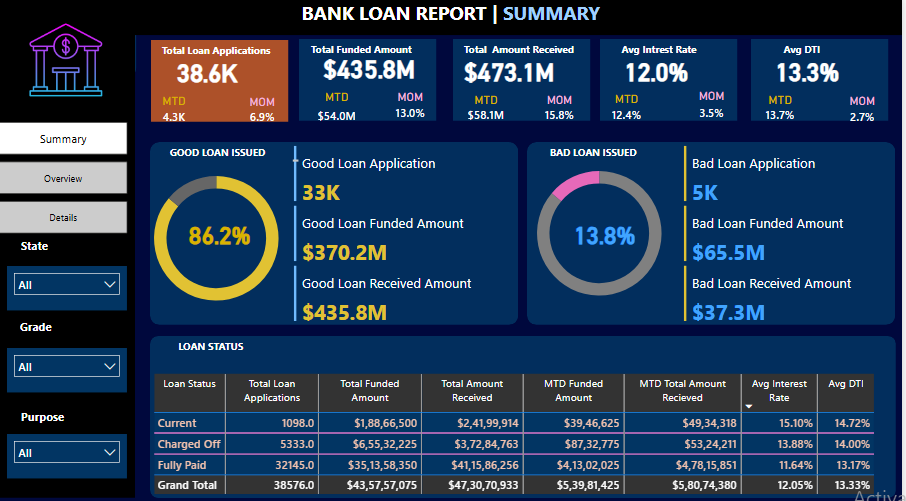

Layout of this report page (visuals, bound fields, positions):
{"tool":"powerbi","page":{"name":"Summary","canvas":[1280,720],"ordinal":0},"visuals":[{"type":"shape","box":[425.8,60.9,194.9,116.2],"z":0,"group":"g5"},{"type":"shape","box":[642.1,60.9,194.9,116.2],"z":0,"group":"g6"},{"type":"shape","box":[851.3,60.9,194.9,116.2],"z":0,"group":"g2"},{"type":"shape","box":[1065.8,60.9,194.9,116.2],"z":0,"group":"g1"},{"type":"shape","box":[214.9,62.7,194.9,116.2],"z":0,"group":"g4"},{"type":"shape","box":[214.5,207.4,522,259.2],"z":0},{"type":"card","fields":{"Values":["Date Table.Total Funded Amount"]},"box":[435,67.2,178.8,66.1],"z":1000,"group":"g5"},{"type":"card","fields":{"Values":["Date Table.Total Amount Received"]},"box":[632.8,71.5,178.8,66.1],"z":1000,"group":"g6"},{"type":"card","fields":{"Values":["Date Table.Avg Interest Rate"]},"box":[842,71.5,178.8,66.1],"z":1000,"group":"g2"},{"type":"card","fields":{"Values":["Date Table.Avg DTI"]},"box":[1056.5,71.5,178.8,66.1],"z":1000,"group":"g1"},{"type":"card","fields":{"Values":["Date Table.Total Loan Applications"]},"box":[205.6,73.3,178.8,66.1],"z":1000,"group":"g4"},{"type":"shape","box":[0.3,0.1,194.9,116.2],"z":2000},{"type":"textbox","box":[425.5,60.8,195.6,35.4],"z":2000,"group":"g5"},{"type":"textbox","box":[641.8,60.8,195.6,35.4],"z":2000,"group":"g6"},{"type":"textbox","box":[851,60.8,195.6,35.4],"z":2000,"group":"g2"},{"type":"textbox","box":[1065.5,60.8,195.6,35.4],"z":2000,"group":"g1"},{"type":"textbox","box":[214.6,62.6,195.6,35.4],"z":2000,"group":"g4"},{"type":"shape","box":[0,55.3,192.8,656.2],"z":2500},{"type":"card","title":"MOM","fields":{"Values":["Date Table.MOM total avg intreset amount"]},"box":[972,132,75.1,53.6],"z":3000,"group":"g2"},{"type":"card","title":"MOM","fields":{"Values":["Date Table.MOM total funded amount"]},"box":[547.7,133.3,71.5,48.3],"z":3000,"group":"g5"},{"type":"card","title":"MOM","fields":{"Values":["Date Table.MOM total Amount Recieved"]},"box":[762.8,137.2,60.8,44.7],"z":3000,"group":"g6"},{"type":"card","title":"MOM","fields":{"Values":["Date Table.MOM AVG DTI"]},"box":[1187.8,138.1,71.5,48.3],"z":3000,"group":"g1"},{"type":"card","title":"MOM","fields":{"Values":["Date Table.MOM Loan Application"]},"box":[336.8,140.2,71.5,46.5],"z":3000,"group":"g4"},{"type":"textbox","box":[225.3,207.4,184.1,41.1],"z":3000},{"type":"card","title":"MTD","fields":{"Values":["Date Table.MTD Funded Amount"]},"box":[436.8,133.3,84,57.2],"z":4000,"group":"g5"},{"type":"card","title":"MTD","fields":{"Values":["Date Table.MTD Avg Intrest rate"]},"box":[861.2,135.6,55.4,48.3],"z":4000,"group":"g2"},{"type":"card","title":"MTD","fields":{"Values":["Date Table.MTD Avg DTI"]},"box":[1076.4,137,62.6,46.5],"z":4000,"group":"g1"},{"type":"card","title":"MTD","fields":{"Values":["Date Table.MTD Total Amount Recieved"]},"box":[652,137.2,73.3,44.7],"z":4000,"group":"g6"},{"type":"card","title":"MTD","fields":{"Values":["Date Table.MTD Loan Application"]},"box":[224.6,139.2,48.2,49.6],"z":4000,"group":"g4"},{"type":"card","fields":{"Values":["Date Table.Good Loan %"]},"box":[248.5,311.1,128.7,51.8],"z":4000},{"type":"group","id":"g1","title":"Group 5","box":[1056.5,60.8,204.6,125.5],"z":4012,"group":"g3"},{"type":"shape","box":[0,0,1280,55.7],"z":5000},{"type":"textbox","box":[423.8,0,446.6,55.7],"z":6000},{"type":"group","id":"g2","title":"Group 1","box":[842,60.8,203.8,125.1],"z":7000},{"type":"shape","box":[749.1,207.4,522,259.2],"z":8000},{"type":"group","id":"g3","title":"Group 1","box":[1056.5,60.8,204.6,125.5],"z":9000},{"type":"group","id":"g4","title":"Group 2","box":[205.6,62.6,204.6,126.2],"z":10000},{"type":"group","id":"g5","title":"Group 3","box":[425.5,60.8,196.6,130.5],"z":11000},{"type":"shape","box":[214,482.3,1057.4,229.7],"z":12000},{"type":"group","id":"g6","title":"Group 4","box":[632.8,60.8,205.6,121.6],"z":13000},{"type":"donutChart","fields":{"Category":["financial_loan.Good vs Bad"],"Y":["Date Table.Total Loan Applications"]},"box":[725.8,221.7,250.3,230.6],"z":14000},{"type":"cardVisual","fields":{"Data":["Date Table.Good Loan Application","Date Table.Good Loan Funded Amount","Date Table.Good Loan Received Amount"]},"box":[413,207.4,337.9,259.2],"z":15000},{"type":"donutChart","fields":{"Category":["financial_loan.Good vs Bad"],"Y":["Date Table.Total Loan Applications"]},"box":[182.3,228.8,250.3,230.6],"z":16000},{"type":"textbox","box":[763.4,207.4,168,41.1],"z":17000},{"type":"card","fields":{"Values":["Date Table.Bad Loan %"]},"box":[793.7,311.1,128.7,51.8],"z":18000},{"type":"cardVisual","fields":{"Data":["Date Table.Bad Loan Application","Date Table.Bad Loan Funded Amount","Date Table.Bad Loan Received Amount"]},"box":[965.4,207.4,269.9,259.2],"z":19000},{"type":"tableEx","fields":{"Values":["financial_loan.loan_status","Date Table.Total Loan Applications","Date Table.Total Funded Amount","Date Table.Total Amount Received","Date Table.MTD Funded Amount","Date Table.MTD Total Amount Recieved","Date Table.Avg Interest Rate","Date Table.Avg DTI"]},"box":[214,530.1,1046,181.4],"z":20000},{"type":"textbox","box":[245.2,481.9,174.3,34],"z":21000},{"type":"slicer","fields":{"Values":["financial_loan.address_state"]},"box":[10.7,382.6,169.8,62.6],"z":22000},{"type":"textbox","box":[361.1,227,67.9,12.5],"z":23000},{"type":"textbox","box":[12.5,337.9,85.8,44.7],"z":24000},{"type":"slicer","fields":{"Values":["financial_loan.grade"]},"box":[10.7,498.8,169.8,62.6],"z":25000},{"type":"textbox","box":[10.7,452.3,98.3,46.5],"z":26000},{"type":"slicer","fields":{"Values":["financial_loan.purpose"]},"box":[10.7,620.3,169.8,62.6],"z":27000},{"type":"textbox","box":[12.5,579.2,107.3,41.1],"z":28000},{"type":"image","box":[31.4,24.3,127,132.7],"z":28001},{"type":"pageNavigator","box":[0,178.4,182.7,158.4],"z":28002}]}

Visuals, with their boxes on the page's 1280x720 design canvas (x1, y1, x2, y2). These are canvas units, not pixel positions in the 906x501 screenshot, which may show the page scaled, cropped or inside an application window:
shape: <region>426, 61, 621, 177</region>
shape: <region>642, 61, 837, 177</region>
shape: <region>851, 61, 1046, 177</region>
shape: <region>1066, 61, 1261, 177</region>
shape: <region>215, 63, 410, 179</region>
shape: <region>214, 207, 736, 467</region>
card - Date Table.Total Funded Amount: <region>435, 67, 614, 133</region>
card - Date Table.Total Amount Received: <region>633, 72, 812, 138</region>
card - Date Table.Avg Interest Rate: <region>842, 72, 1021, 138</region>
card - Date Table.Avg DTI: <region>1056, 72, 1235, 138</region>
card - Date Table.Total Loan Applications: <region>206, 73, 384, 139</region>
shape: <region>0, 0, 195, 116</region>
textbox: <region>426, 61, 621, 96</region>
textbox: <region>642, 61, 837, 96</region>
textbox: <region>851, 61, 1047, 96</region>
textbox: <region>1066, 61, 1261, 96</region>
textbox: <region>215, 63, 410, 98</region>
shape: <region>0, 55, 193, 712</region>
"MOM" card: <region>972, 132, 1047, 186</region>
"MOM" card: <region>548, 133, 619, 182</region>
"MOM" card: <region>763, 137, 824, 182</region>
"MOM" card: <region>1188, 138, 1259, 186</region>
"MOM" card: <region>337, 140, 408, 187</region>
textbox: <region>225, 207, 409, 248</region>
"MTD" card: <region>437, 133, 521, 190</region>
"MTD" card: <region>861, 136, 917, 184</region>
"MTD" card: <region>1076, 137, 1139, 184</region>
"MTD" card: <region>652, 137, 725, 182</region>
"MTD" card: <region>225, 139, 273, 189</region>
card - Date Table.Good Loan %: <region>248, 311, 377, 363</region>
"Group 5" group: <region>1056, 61, 1261, 186</region>
shape: <region>0, 0, 1280, 56</region>
textbox: <region>424, 0, 870, 56</region>
"Group 1" group: <region>842, 61, 1046, 186</region>
shape: <region>749, 207, 1271, 467</region>
"Group 1" group: <region>1056, 61, 1261, 186</region>
"Group 2" group: <region>206, 63, 410, 189</region>
"Group 3" group: <region>426, 61, 622, 191</region>
shape: <region>214, 482, 1271, 712</region>
"Group 4" group: <region>633, 61, 838, 182</region>
donutChart - financial_loan.Good vs Bad x Date Table.Total Loan Applications: <region>726, 222, 976, 452</region>
cardVisual - Date Table.Good Loan Application x Date Table.Good Loan Funded Amount: <region>413, 207, 751, 467</region>
donutChart - financial_loan.Good vs Bad x Date Table.Total Loan Applications: <region>182, 229, 433, 459</region>
textbox: <region>763, 207, 931, 248</region>
card - Date Table.Bad Loan %: <region>794, 311, 922, 363</region>
cardVisual - Date Table.Bad Loan Application x Date Table.Bad Loan Funded Amount: <region>965, 207, 1235, 467</region>
tableEx - financial_loan.loan_status x Date Table.Total Loan Applications: <region>214, 530, 1260, 712</region>
textbox: <region>245, 482, 420, 516</region>
slicer - financial_loan.address_state: <region>11, 383, 180, 445</region>
textbox: <region>361, 227, 429, 240</region>
textbox: <region>12, 338, 98, 383</region>
slicer - financial_loan.grade: <region>11, 499, 180, 561</region>
textbox: <region>11, 452, 109, 499</region>
slicer - financial_loan.purpose: <region>11, 620, 180, 683</region>
textbox: <region>12, 579, 120, 620</region>
image: <region>31, 24, 158, 157</region>
pageNavigator: <region>0, 178, 183, 337</region>
